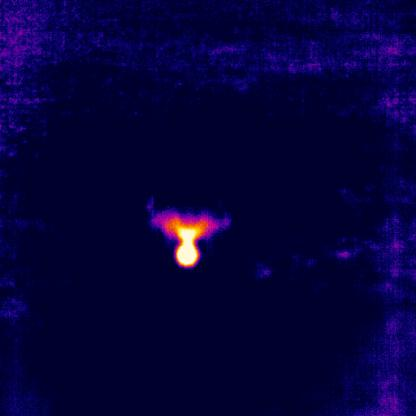drone: (146, 195, 232, 268)
